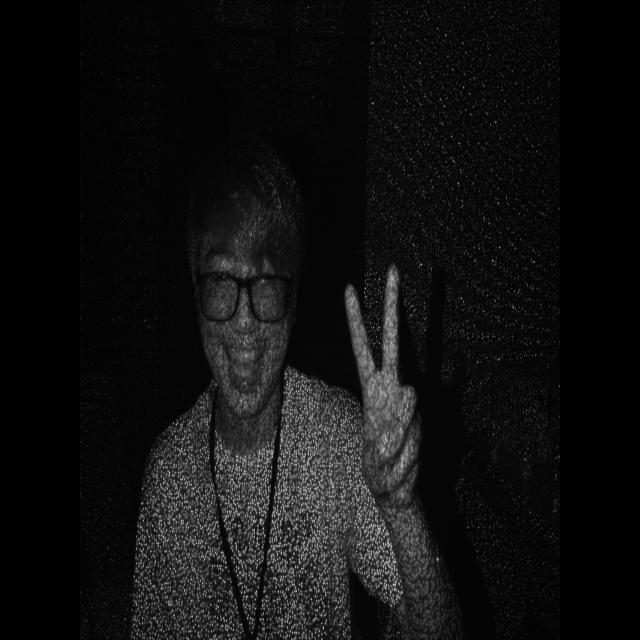V: (336, 255, 427, 498)
